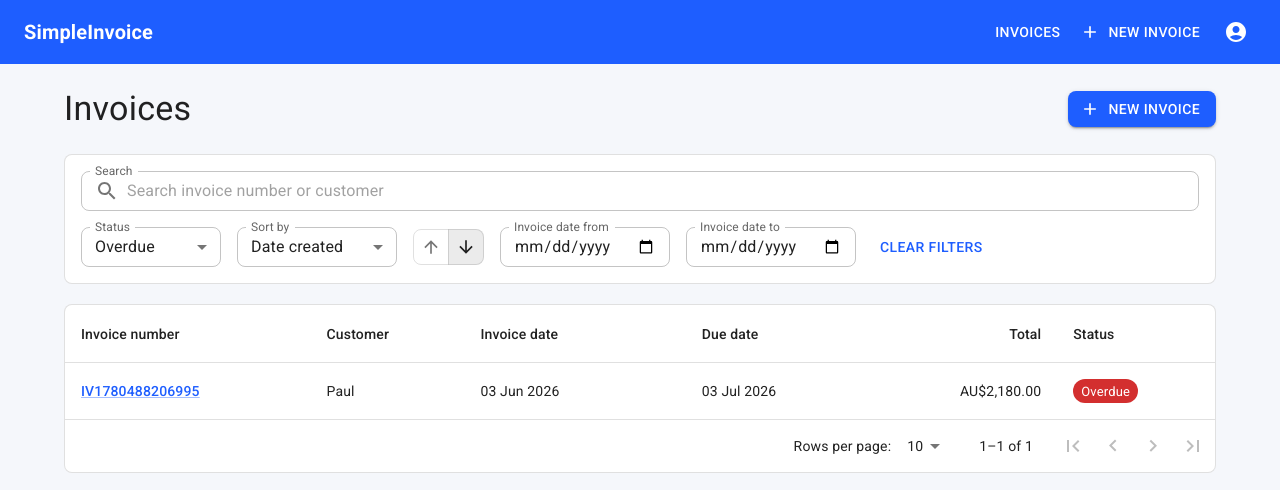
Test: InvoiceListPage › clears a partly typed date together with the filters
The image size is (1280, 490).
Expected: the link "IV1780488206995" is shown, [81, 383, 200, 399]
Type "0002-01-01" into the date field labelled "Invoice date from" at [585, 247], box [500, 227, 670, 267]
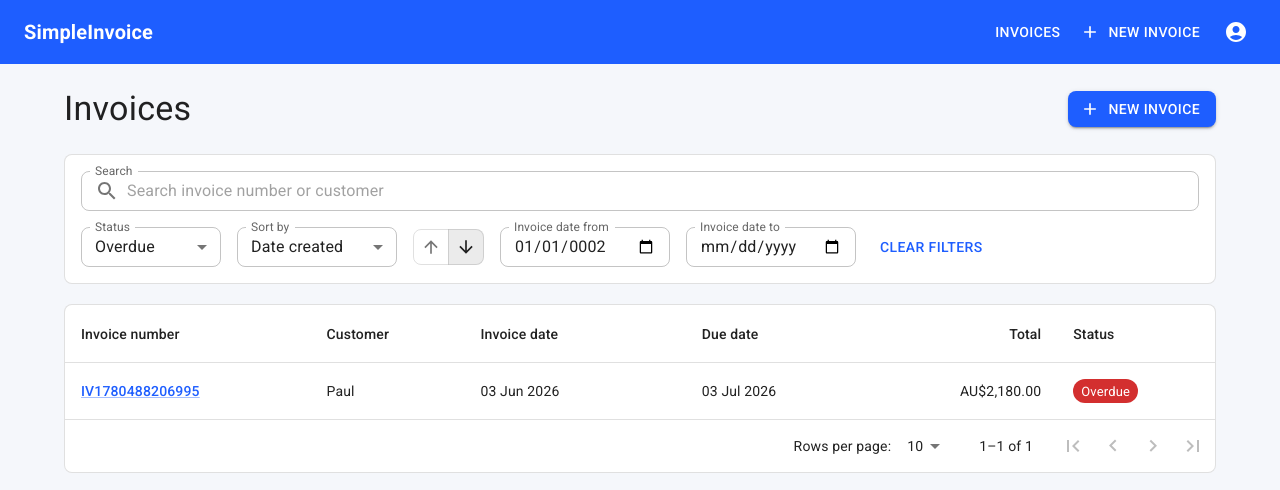
Click the button "Clear filters" at [931, 247], box [872, 229, 991, 265]
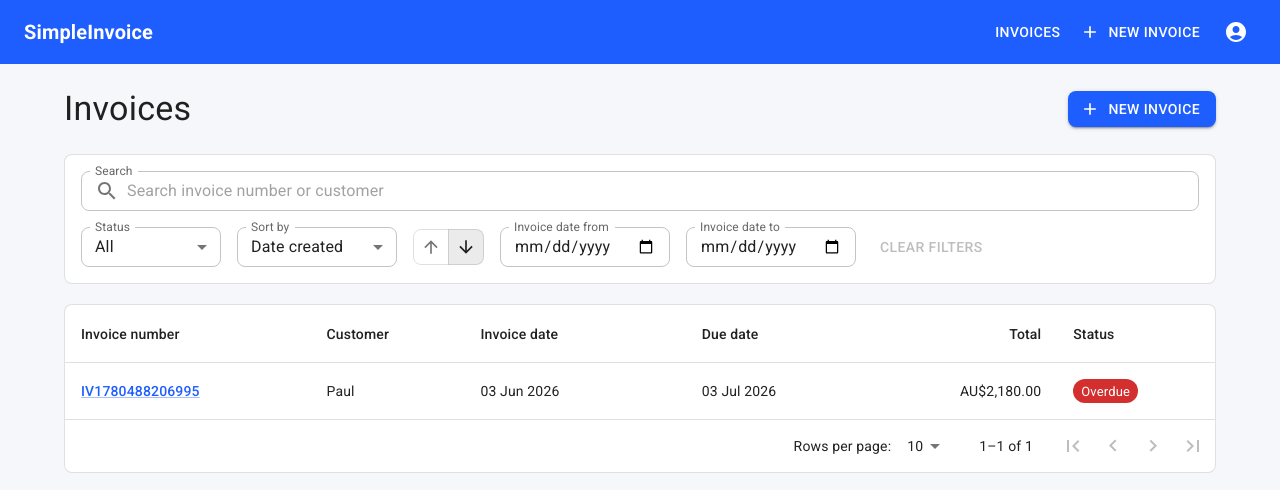
Expected: the date field labelled "Invoice date to" is empty, [686, 227, 856, 267]
Expected: the date field labelled "Invoice date from" is empty, [500, 227, 670, 267]
